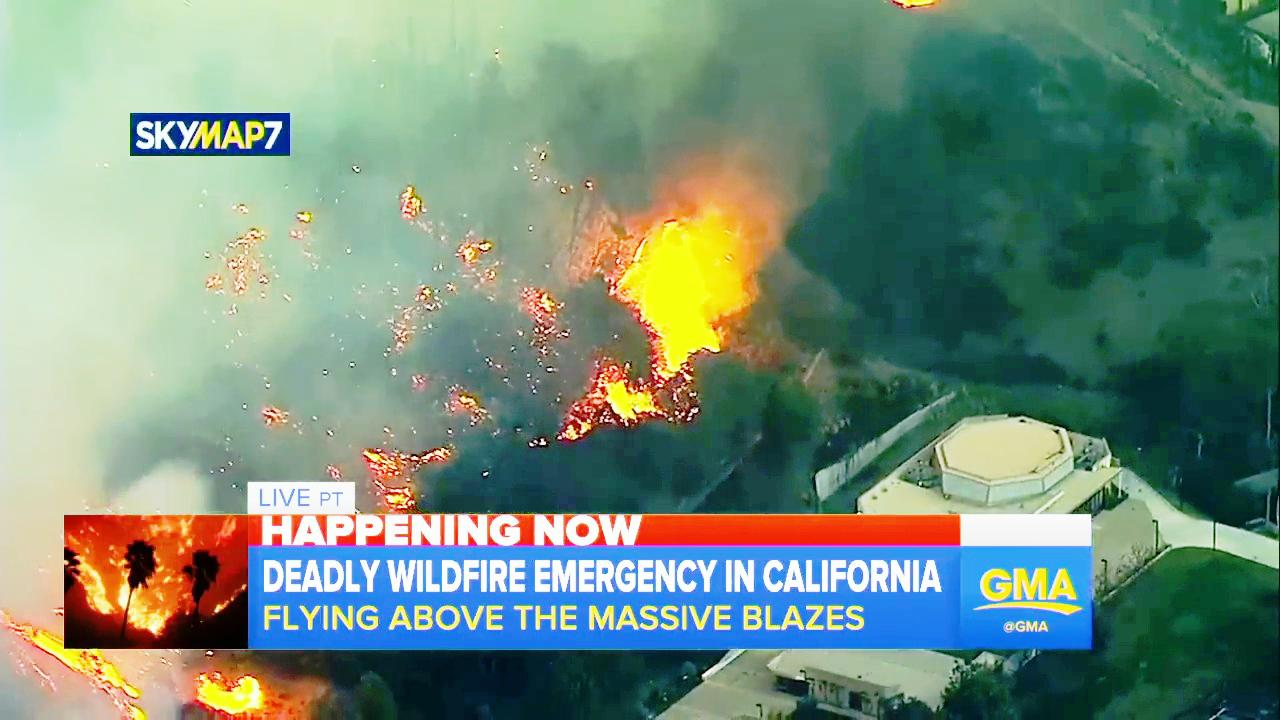fire: (604, 217, 747, 419)
smoke: (28, 192, 485, 468)
